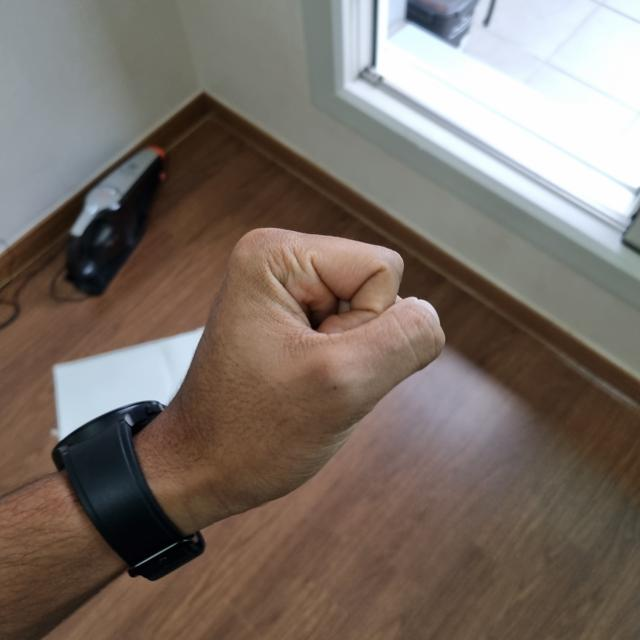Rock: (141, 231, 438, 523)
